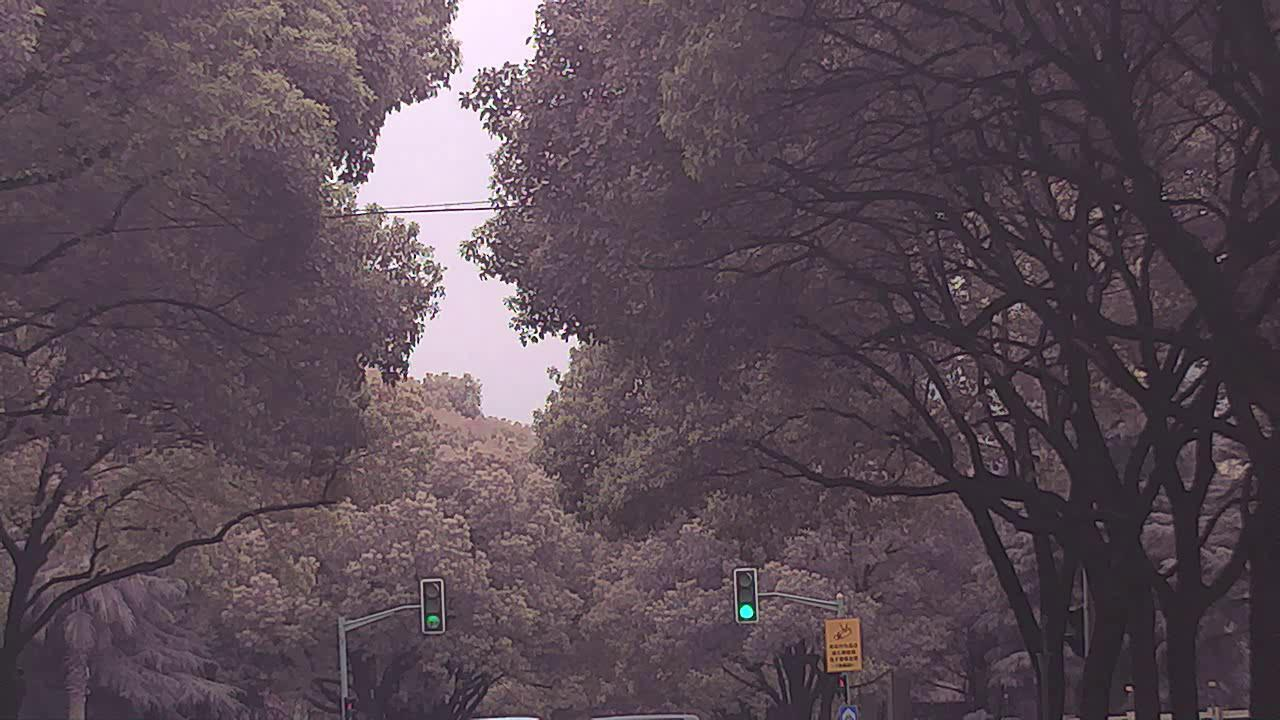traffic_light: (735, 566, 759, 624), (422, 579, 446, 634)
